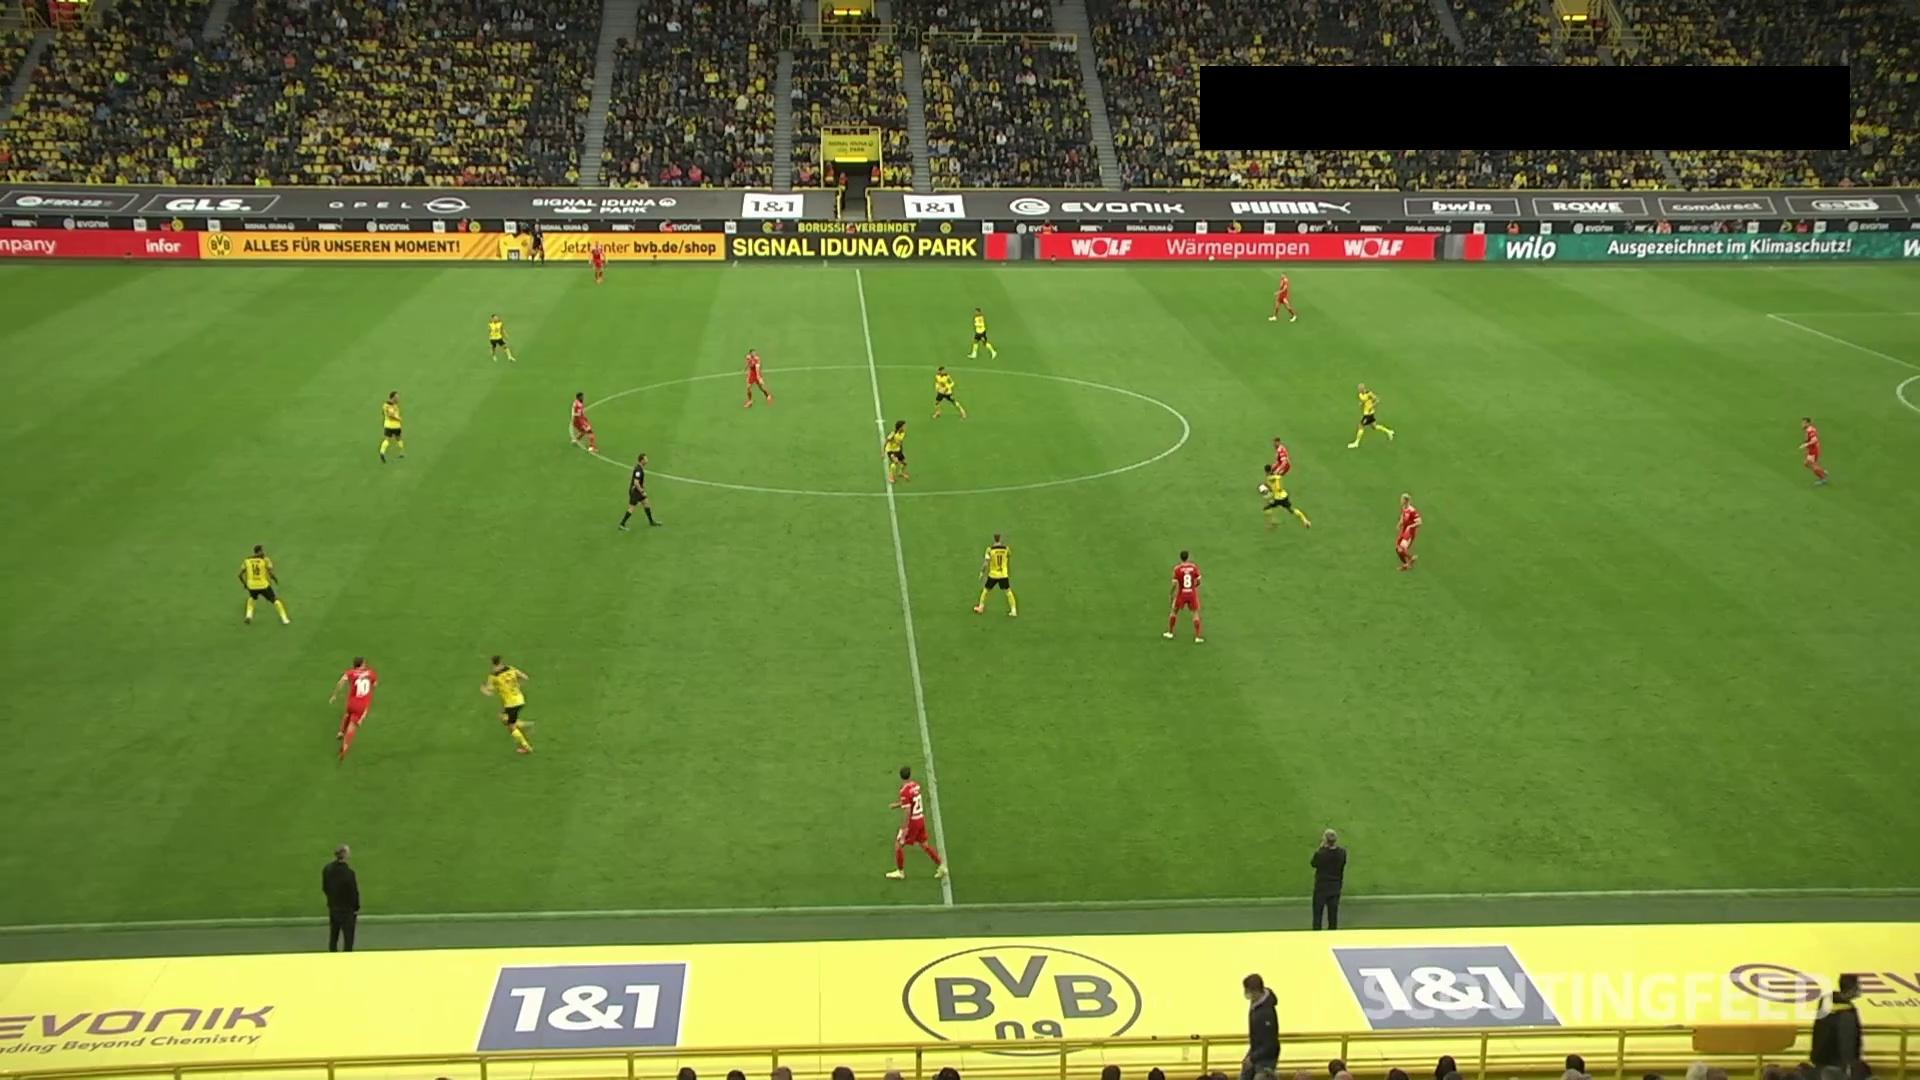Location-of-ball: (1254, 473, 1276, 497)
